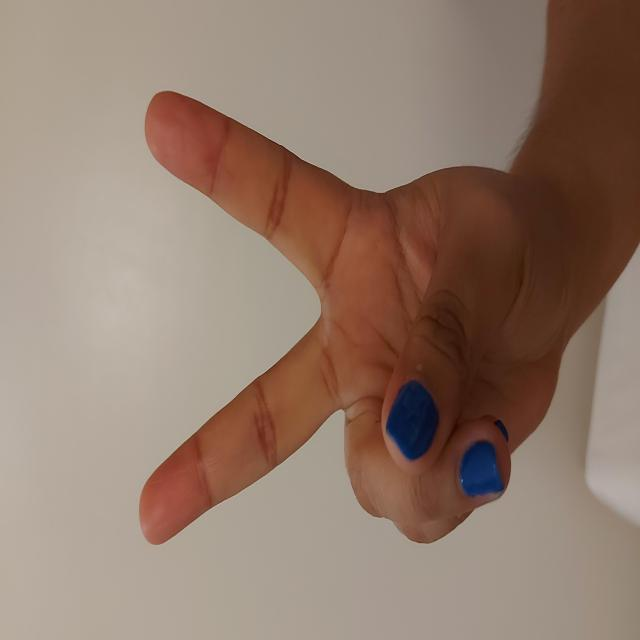V: (87, 137, 555, 568)
